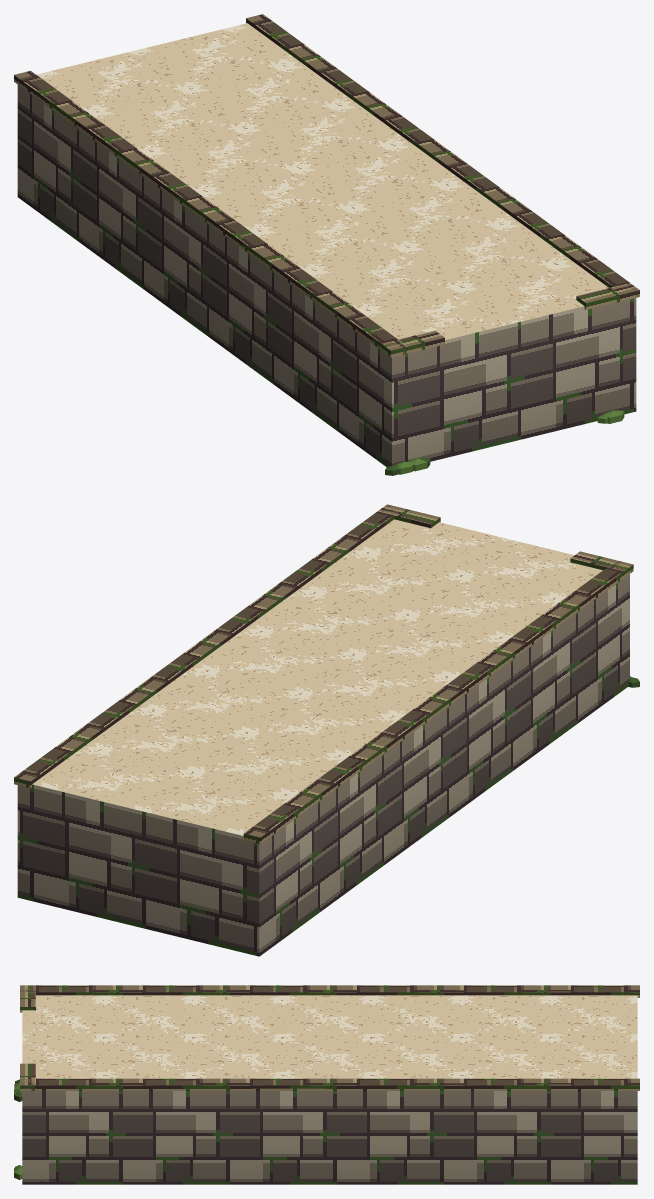
Rendered from scene_bridge_c3.glb.
3 views of the same model, one above another, from view 1: azimuth 30°, elevation 25°; view 2: azimuth 150°, elevation 25°; view 3: azimuth 270°, elevation 25° (orthographic). The views are drawn at different scales.
Parts seen in each view (by area): view 1: scene_bridge_c3; view 2: scene_bridge_c3; view 3: scene_bridge_c3.
Part boxes in pixels (<box>): scene_bridge_c3: <box>14,14,639,475</box>; scene_bridge_c3: <box>14,504,639,956</box>; scene_bridge_c3: <box>14,985,639,1184</box>.
Size of the model in its own units: 5.43 by 2.56 by 14.03.
Materials: 3 (2 with a texture image).
